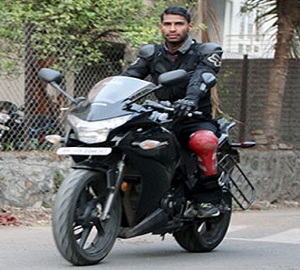Bike: (45, 77, 245, 255)
